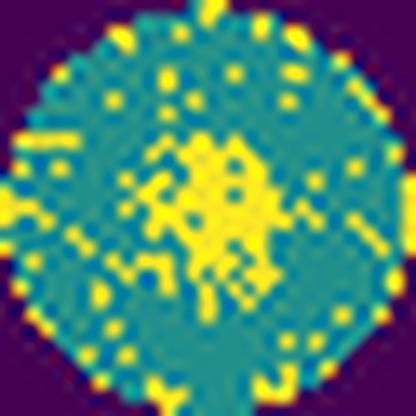Center: (126, 131, 299, 322)
